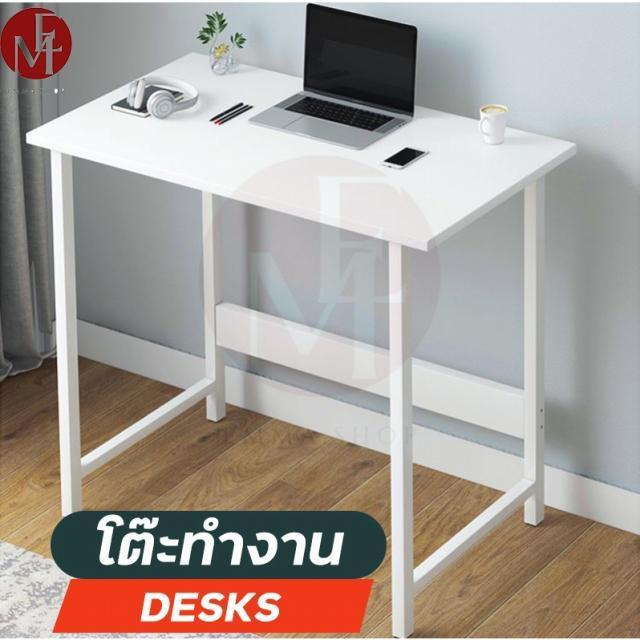table: (20, 39, 590, 259)
